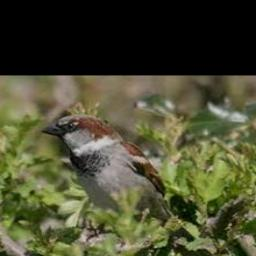Sparrow: (41, 114, 176, 222)
